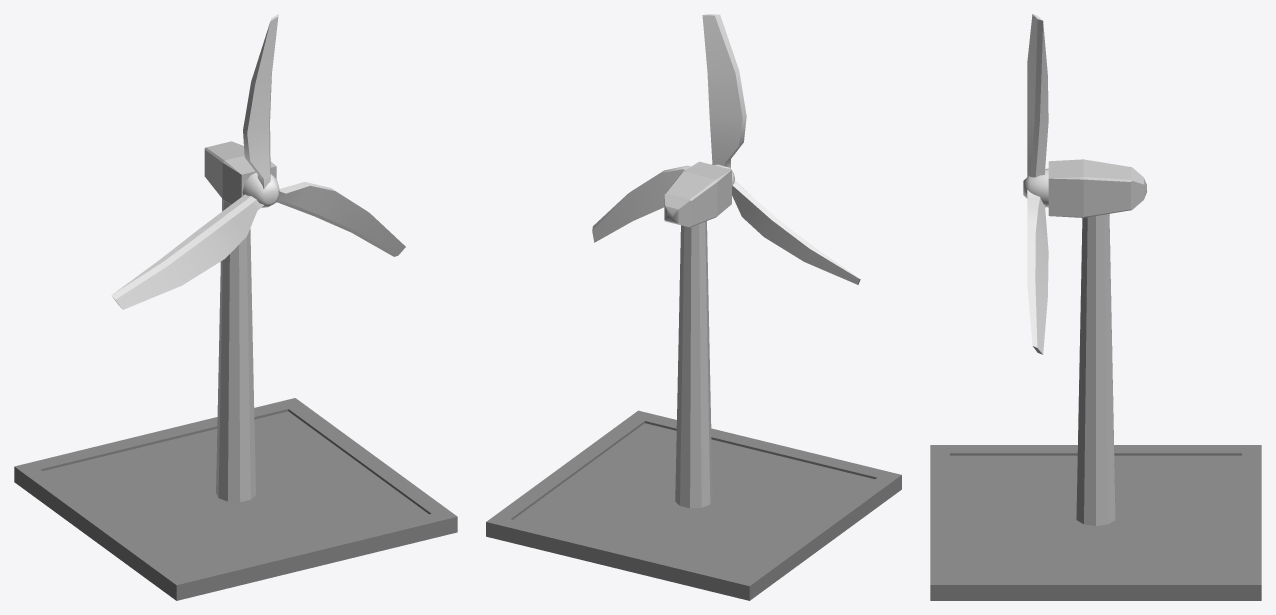
The model's file is WindTurbine_Model.fbx.
3 views of the same model, side by side, from view 1: azimuth 30°, elevation 25°; view 2: azimuth 150°, elevation 25°; view 3: azimuth 270°, elevation 25° (orthographic). The views are drawn at different scales.
Visible parts, largest first — view 1: pCube7, pCube12, pCube13; view 2: pCube7, pCube13, pCube12; view 3: pCube7, pCube13, pCube12.
Boxes of the visible parts, box(x1,y1,x2,y2) form: pCube7: box(14, 398, 457, 600); pCube12: box(111, 14, 405, 309); pCube13: box(204, 141, 276, 502); pCube7: box(486, 410, 901, 600); pCube13: box(664, 161, 731, 508); pCube12: box(592, 14, 860, 284); pCube7: box(930, 445, 1261, 600); pCube13: box(1048, 159, 1146, 525); pCube12: box(1023, 14, 1048, 354).
Bounding box in the file's own units: 22.86 × 38.1 × 22.06.
